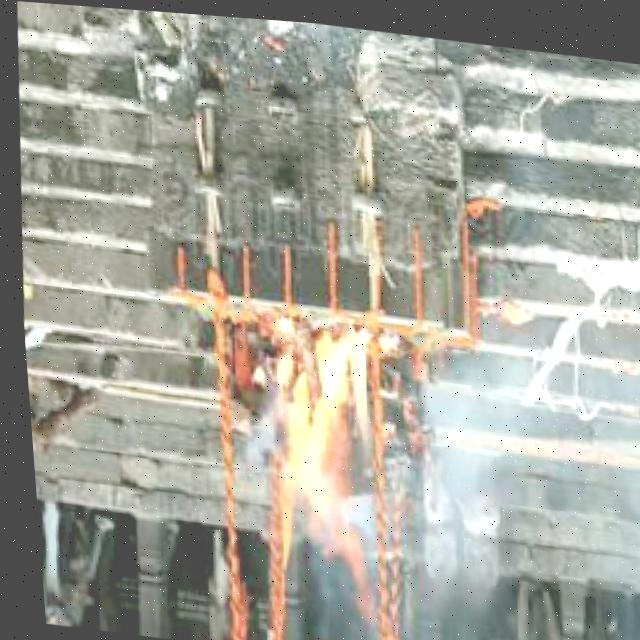Fire: (257, 307, 376, 524)
